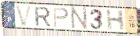3: (89, 8, 106, 31)
H: (106, 9, 126, 32)
N: (71, 6, 88, 31)
P: (52, 6, 70, 29)
R: (33, 7, 52, 27)
V: (15, 4, 35, 28)
